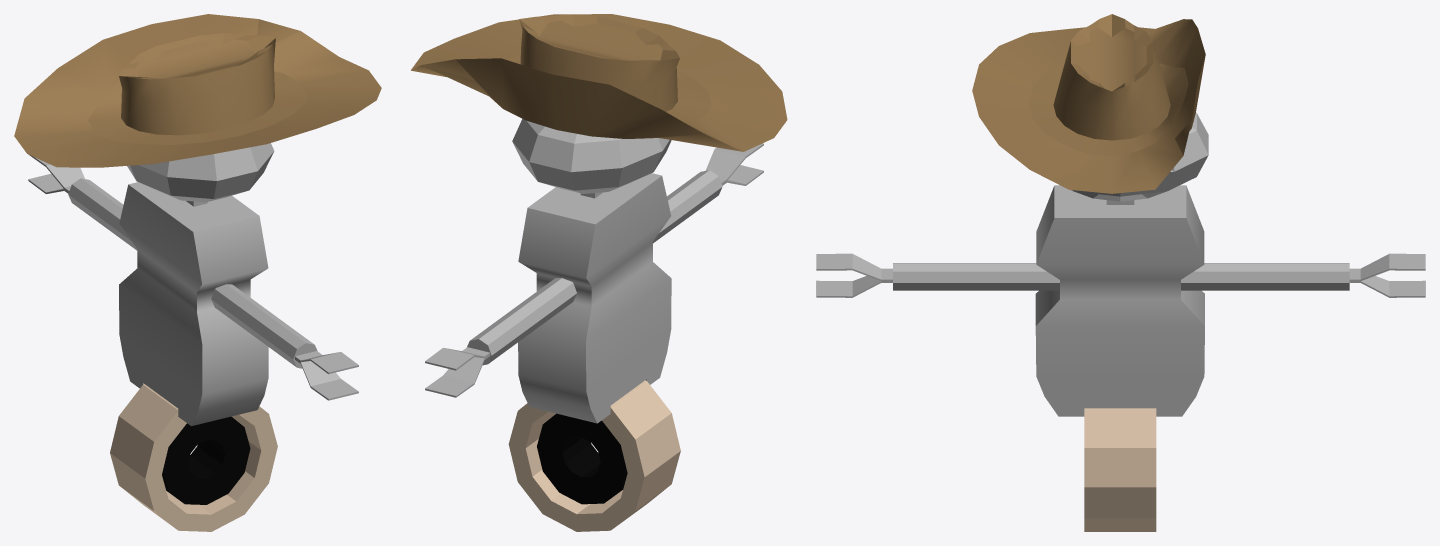
Rendered from robot.fbx.
3 views of the same model, side by side, from view 1: azimuth 30°, elevation 25°; view 2: azimuth 150°, elevation 25°; view 3: azimuth 270°, elevation 25° (orthographic). The views are drawn at different scales.
Parts seen in each view (by area): view 1: Hat, torso, outterWheel, innerWheel, Head, rightArm, rightHand, leftArm, leftHand; view 2: Hat, torso, outterWheel, Head, innerWheel, leftArm, leftHand, rightArm, rightHand; view 3: torso, Hat, outterWheel, leftArm, rightArm, Head, rightHand, leftHand.
Part boxes in pixels (x1,y1,x2,y2): Hat: [14, 14, 381, 167]; torso: [119, 182, 268, 426]; outterWheel: [110, 384, 277, 531]; innerWheel: [162, 416, 250, 504]; Head: [127, 143, 274, 202]; rightArm: [211, 284, 317, 368]; rightHand: [295, 351, 358, 400]; leftArm: [68, 178, 137, 250]; leftHand: [28, 154, 84, 193]; Hat: [411, 14, 787, 151]; torso: [518, 173, 671, 423]; outterWheel: [508, 380, 680, 531]; Head: [512, 119, 671, 193]; innerWheel: [537, 413, 627, 504]; leftArm: [467, 278, 576, 365]; leftHand: [425, 347, 490, 397]; rightArm: [653, 170, 722, 243]; rightHand: [705, 143, 763, 185]; torso: [1035, 185, 1204, 416]; Hat: [972, 14, 1205, 193]; outterWheel: [1084, 408, 1156, 531]; leftArm: [1181, 263, 1349, 290]; rightArm: [893, 263, 1059, 290]; Head: [1071, 112, 1208, 201]; rightHand: [816, 253, 892, 297]; leftHand: [1349, 253, 1425, 297].
Bounding box in the file's own units: 0.0515 × 0.0672 × 0.0785.
